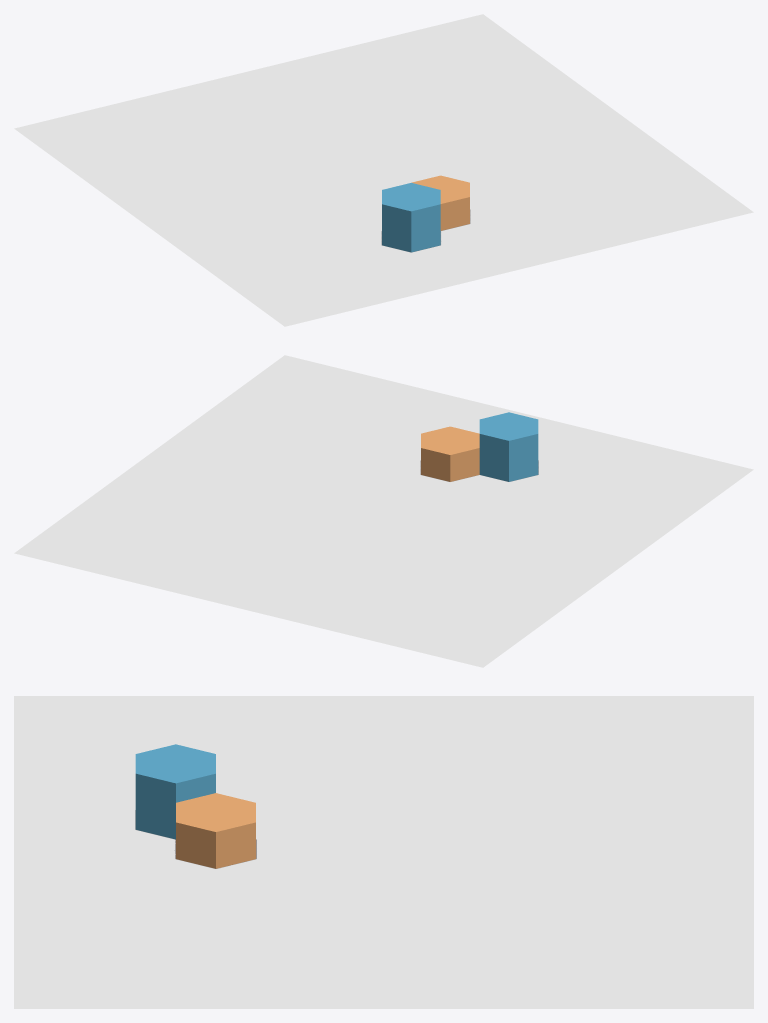
The model's file is universitaria.gltf.
3 views of the same model, one above another, from view 1: azimuth 30°, elevation 25°; view 2: azimuth 150°, elevation 25°; view 3: azimuth 270°, elevation 25° (orthographic). The views are drawn at different scales.
Parts seen in each view (by area): view 1: GSI Elevation Tile, Cuadrícula; view 2: GSI Elevation Tile, Cuadrícula; view 3: GSI Elevation Tile, Cuadrícula.
Part boxes in pixels (left/top/right/bottom): GSI Elevation Tile: left=14, top=14, right=753, bottom=326; Cuadrícula: left=382, top=175, right=469, bottom=252; GSI Elevation Tile: left=14, top=355, right=753, bottom=667; Cuadrícula: left=421, top=412, right=538, bottom=481; GSI Elevation Tile: left=14, top=696, right=753, bottom=1008; Cuadrícula: left=135, top=744, right=255, bottom=868.
Bounding box in the file's own units: 0.1846 × 0.0154 × 0.1846.
Materials: 3 (1 with a texture image).
